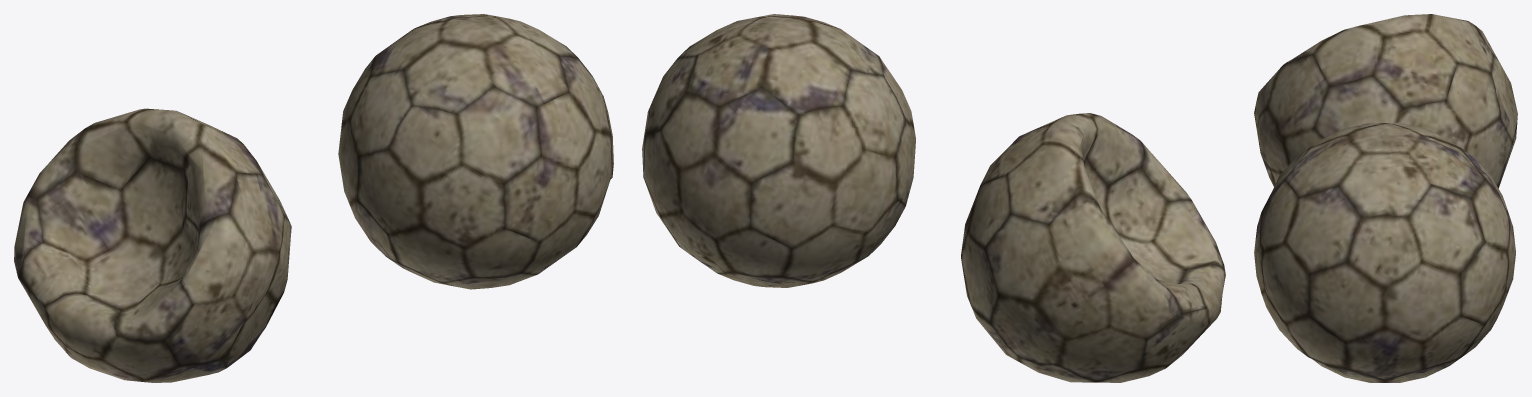
File: football.glb
3 views of the same model, side by side, from view 1: azimuth 30°, elevation 25°; view 2: azimuth 150°, elevation 25°; view 3: azimuth 270°, elevation 25° (orthographic). The views are drawn at different scales.
Parts seen in each view (by area): view 1: football_inflated, football_deflated; view 2: football_inflated, football_deflated; view 3: football_inflated, football_deflated.
Part boxes in pixels (x1,y1,x2,y2): football_inflated: (338,14,613,289); football_deflated: (14,108,291,382); football_inflated: (642,14,915,287); football_deflated: (961,113,1225,382); football_inflated: (1254,122,1515,382); football_deflated: (1254,14,1517,188).
Bounding box in the file's own units: 0.5065 × 0.2219 × 0.2222.
Materials: 1 (1 with a texture image).
